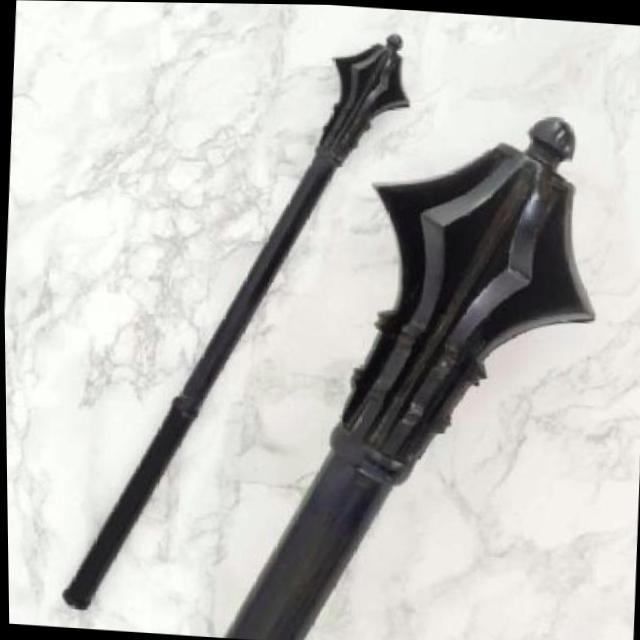weapon: (51, 9, 420, 628), (276, 99, 614, 528)
